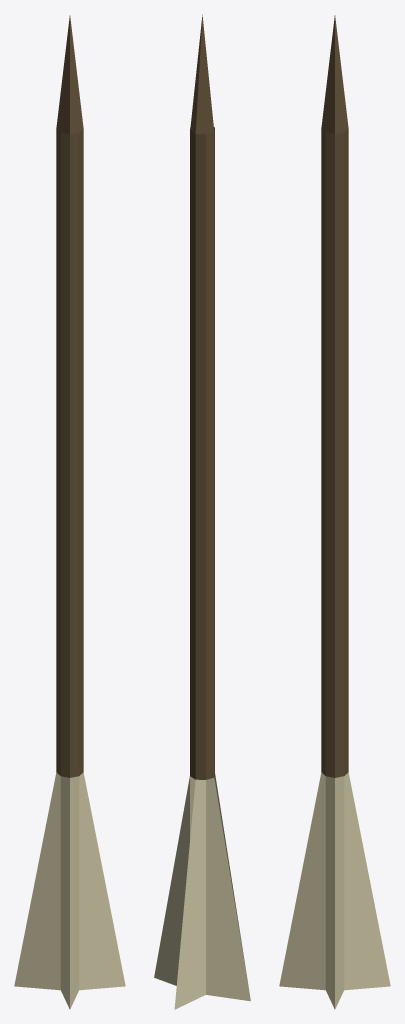
The model's file is Arrow.fbx.
3 renders of one model, left to right at view 1: azimuth 90°, elevation 25°; view 2: azimuth 150°, elevation 25°; view 3: azimuth 270°, elevation 25°, orthographic.
Parts seen in each view (by area): view 1: Arrow; view 2: Arrow; view 3: Arrow.
Boxes of the visible parts, x1,y1,x2,y2 form: Arrow: [14, 15, 125, 1009]; Arrow: [154, 14, 250, 1009]; Arrow: [279, 15, 390, 1009].
Size of the model in its own units: 8.13 by 78.22 by 8.13.
